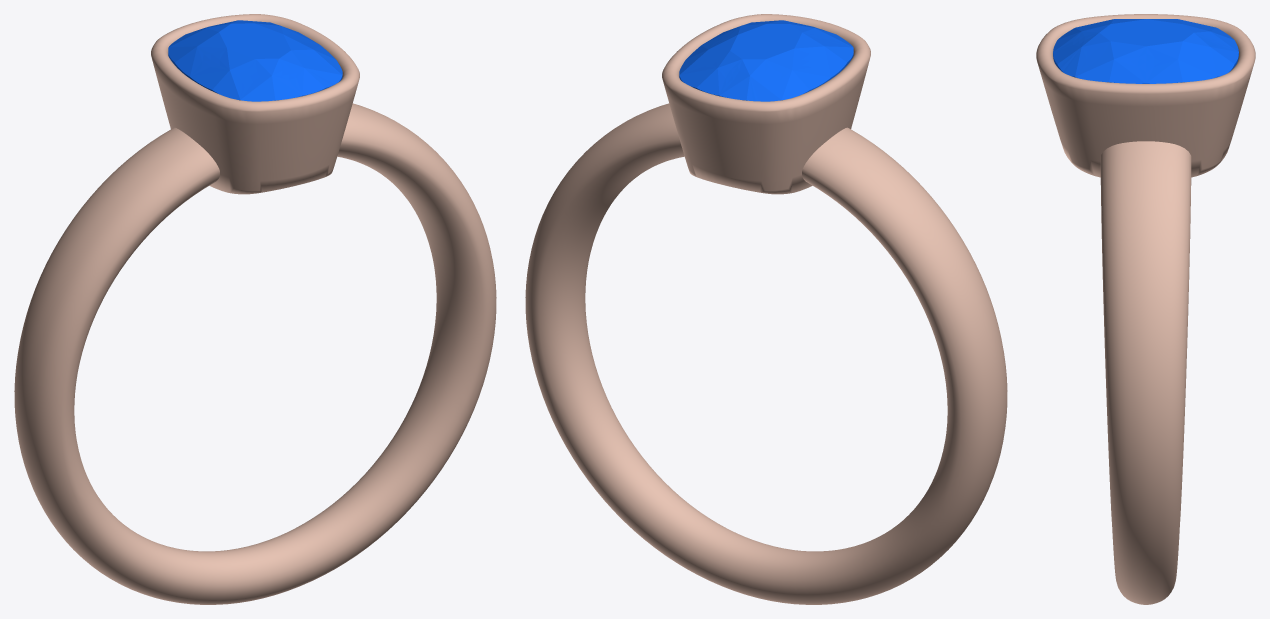
File: bluesapphire-cushion-rosegold-bezelset-taperedband-nosidestones.glb
3 views of the same model, side by side, from view 1: azimuth 30°, elevation 25°; view 2: azimuth 150°, elevation 25°; view 3: azimuth 270°, elevation 25° (orthographic).
Parts seen in each view (by area): view 1: metal.001, stone; view 2: metal.001, stone; view 3: metal.001, stone.
Boxes of the visible parts, box(x1,y1,x2,y2) form: metal.001: box(14, 14, 496, 604); stone: box(168, 20, 342, 101); metal.001: box(525, 14, 1007, 604); stone: box(679, 20, 853, 101); metal.001: box(1036, 14, 1255, 604); stone: box(1053, 19, 1238, 83).
Bounding box in the file's own units: 20.49 × 23.24 × 8.45.
